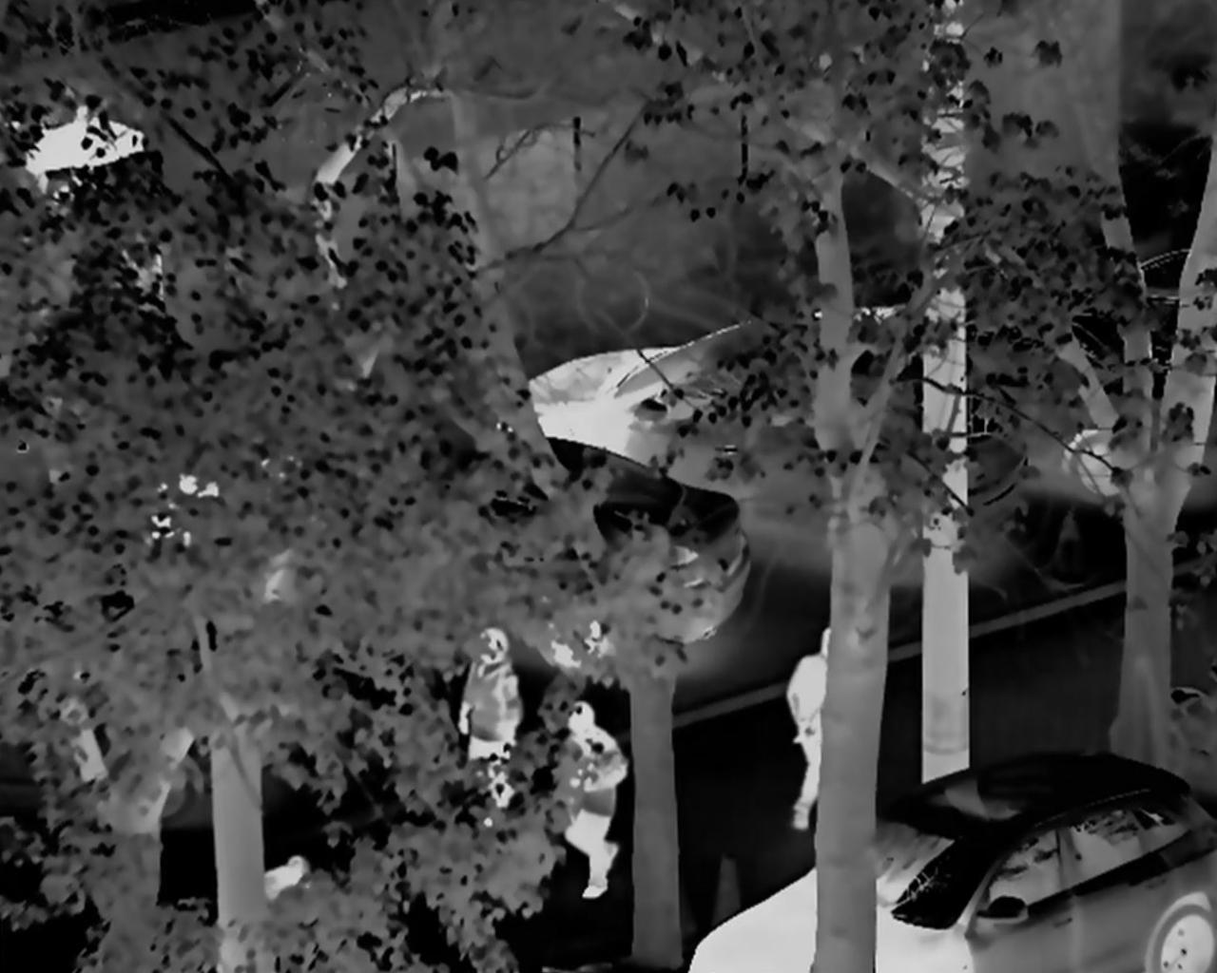person: (771, 618, 860, 841), (546, 703, 629, 902), (443, 619, 517, 835)
